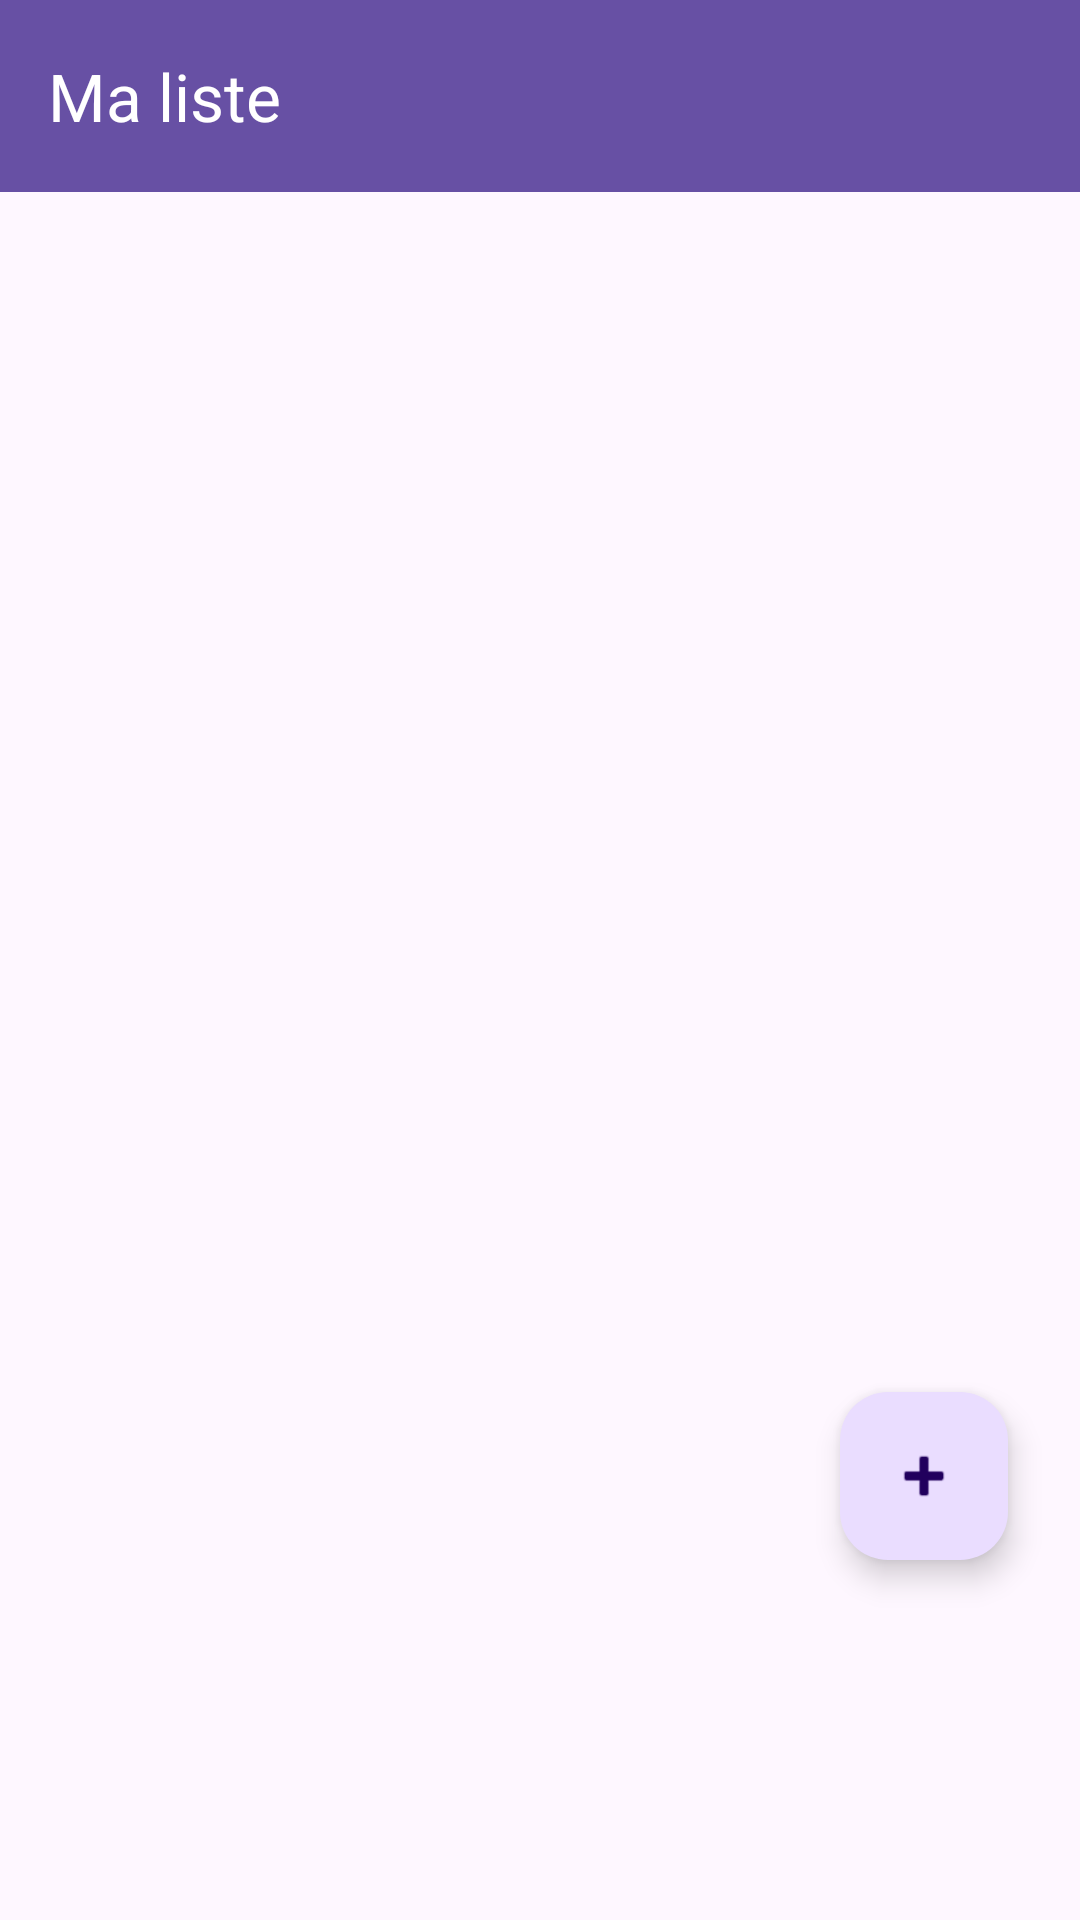

Locate icon controls on the screen. Image size 1080w x 1920h, boxes as [x1=x1, y1=y1, x2=x2, y2=y2].
Ajouter un produit: [x1=840, y1=1392, x2=1008, y2=1560]
